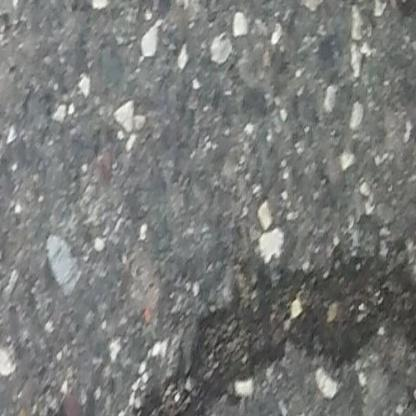Cracks: (133, 234, 416, 416), (36, 400, 100, 416)
